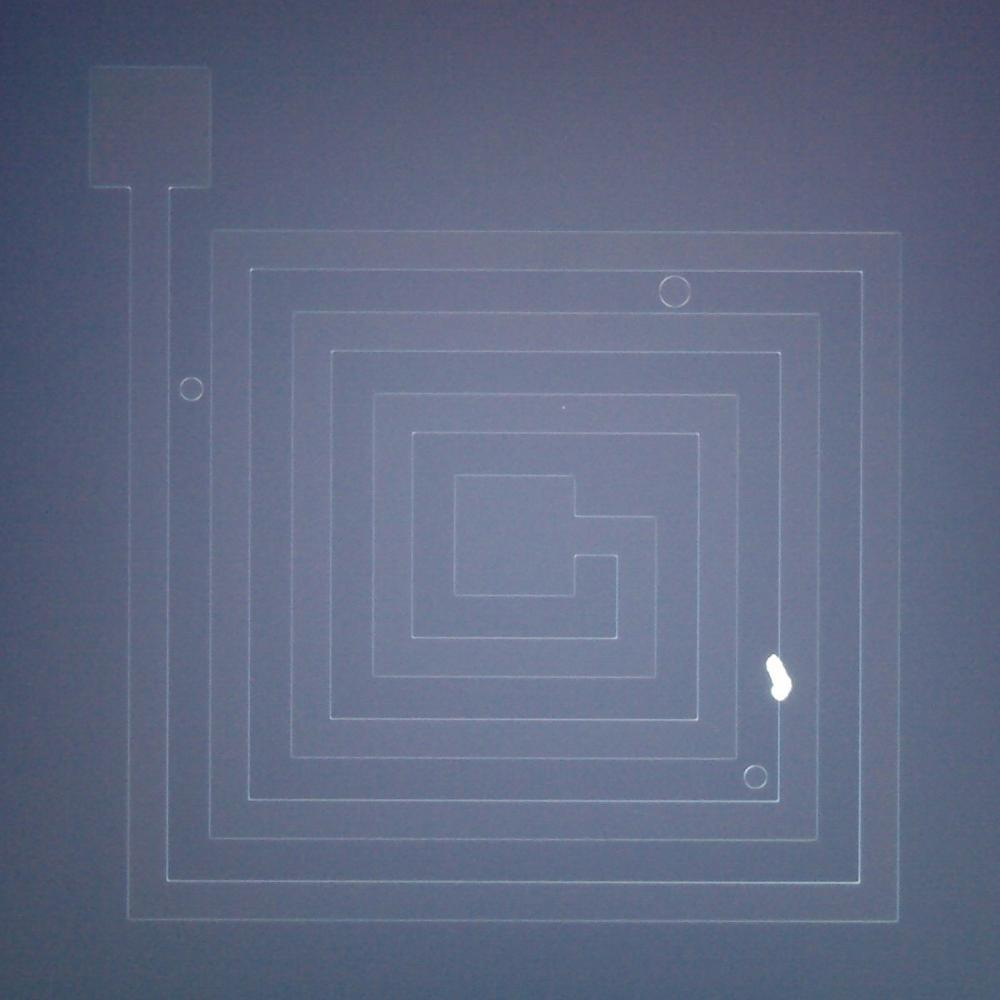circle: (657, 272, 693, 312), (736, 757, 774, 794), (174, 370, 206, 406)
spot: (762, 650, 797, 709)
